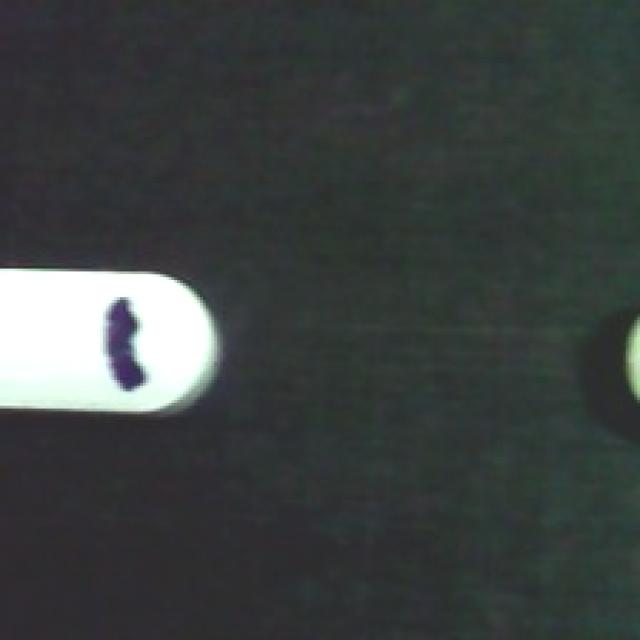defected: (0, 266, 223, 420)
